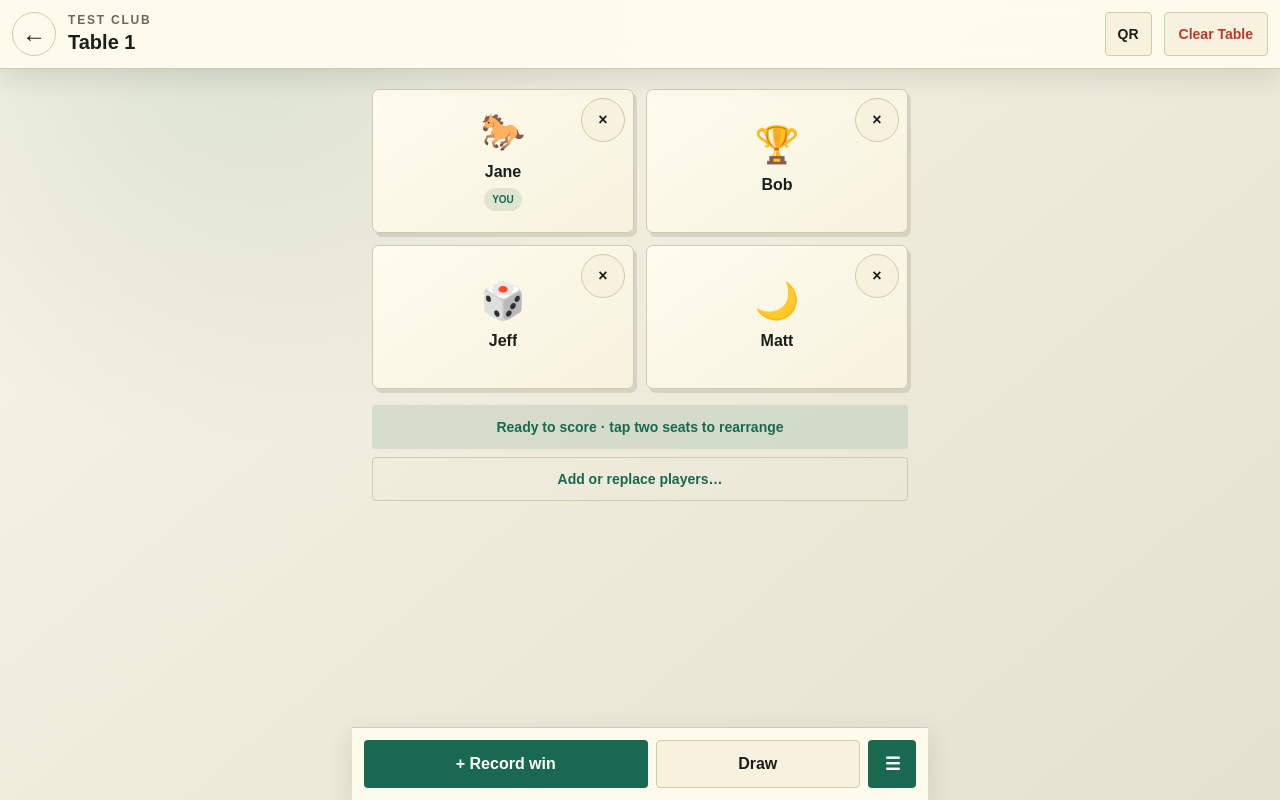
Test: focused table scoring › uses the same celebration when focused mode records a draw
What coordinates should you click on to do the following:
click the button "Draw"
I would click on:
 (758, 764)
Its box is [656,740,860,788].
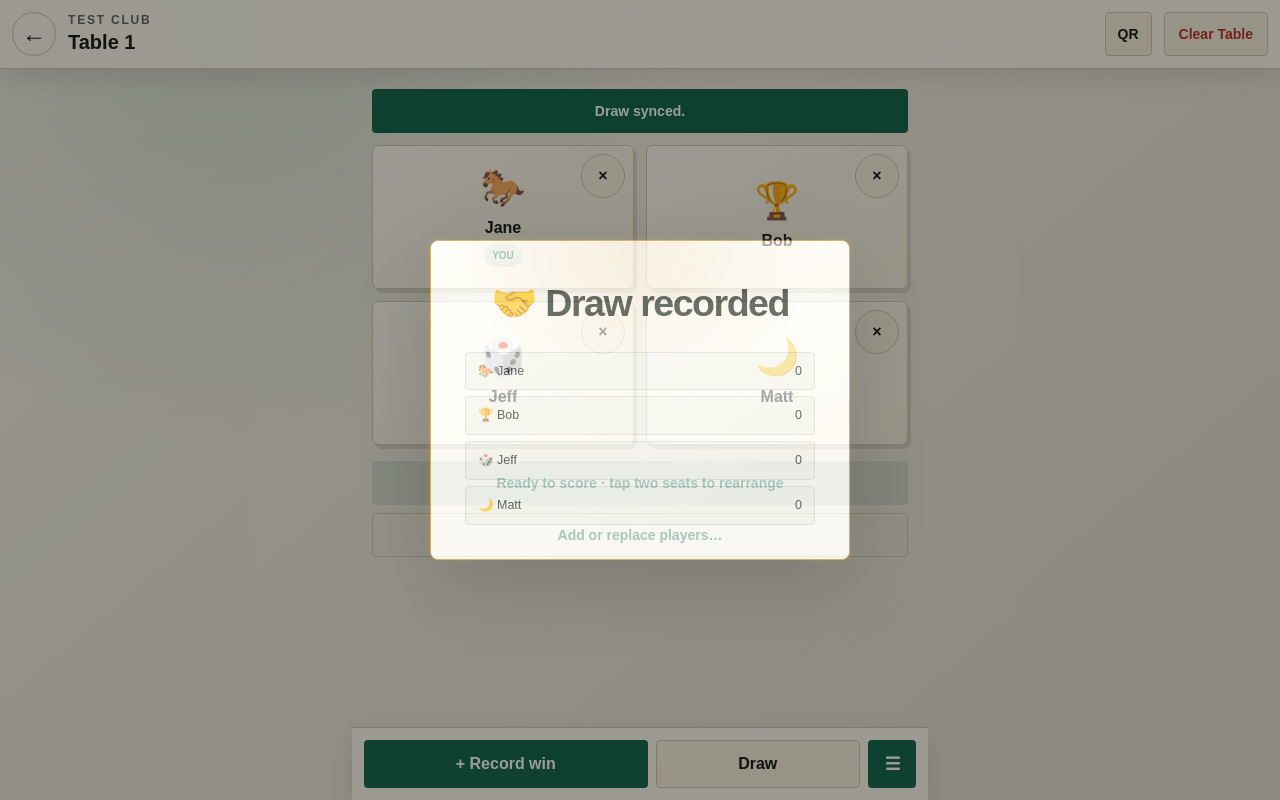
Check: the text "🤝 Draw recorded" is shown, box [465,275,815,332]
